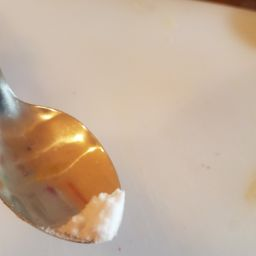Baking powder: (66, 158, 147, 252)
